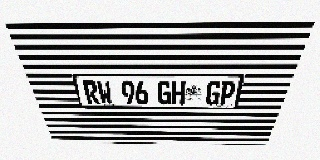6: (134, 81, 149, 105)
9: (120, 81, 136, 105)
G: (205, 81, 222, 105), (158, 81, 171, 105)
H: (171, 81, 185, 105)
P: (218, 81, 237, 105)
R: (82, 81, 100, 104)
W: (96, 81, 113, 104)
